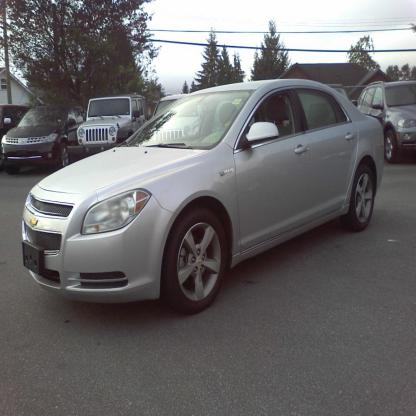Vehicle: (19, 78, 384, 317)
